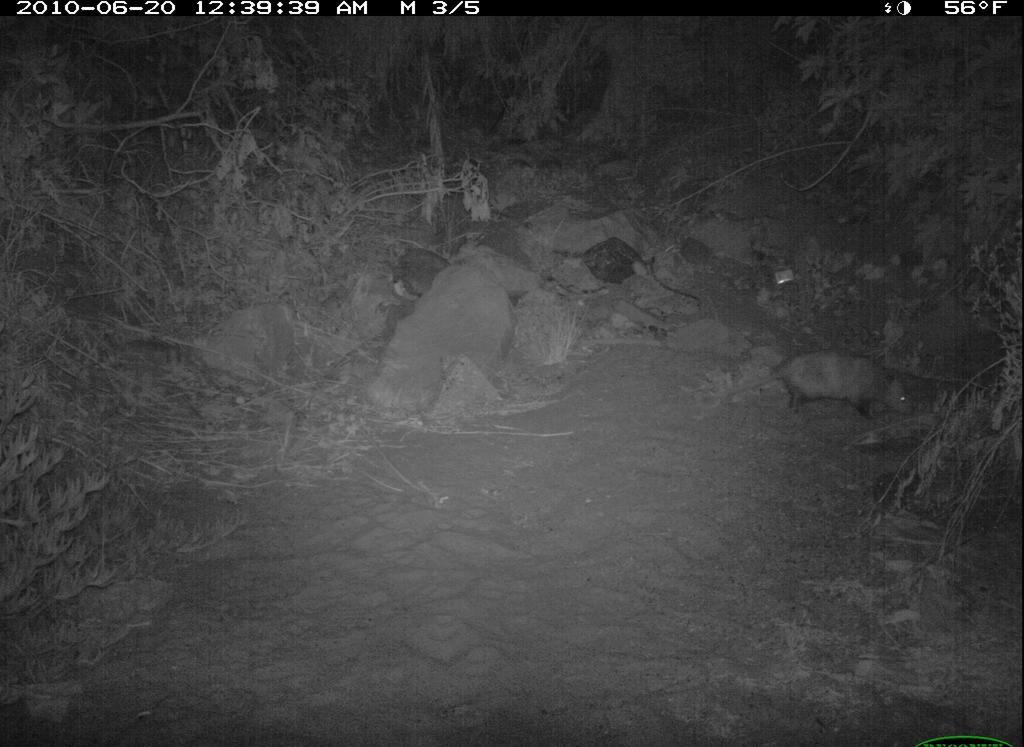opossum: (713, 344, 929, 424)
